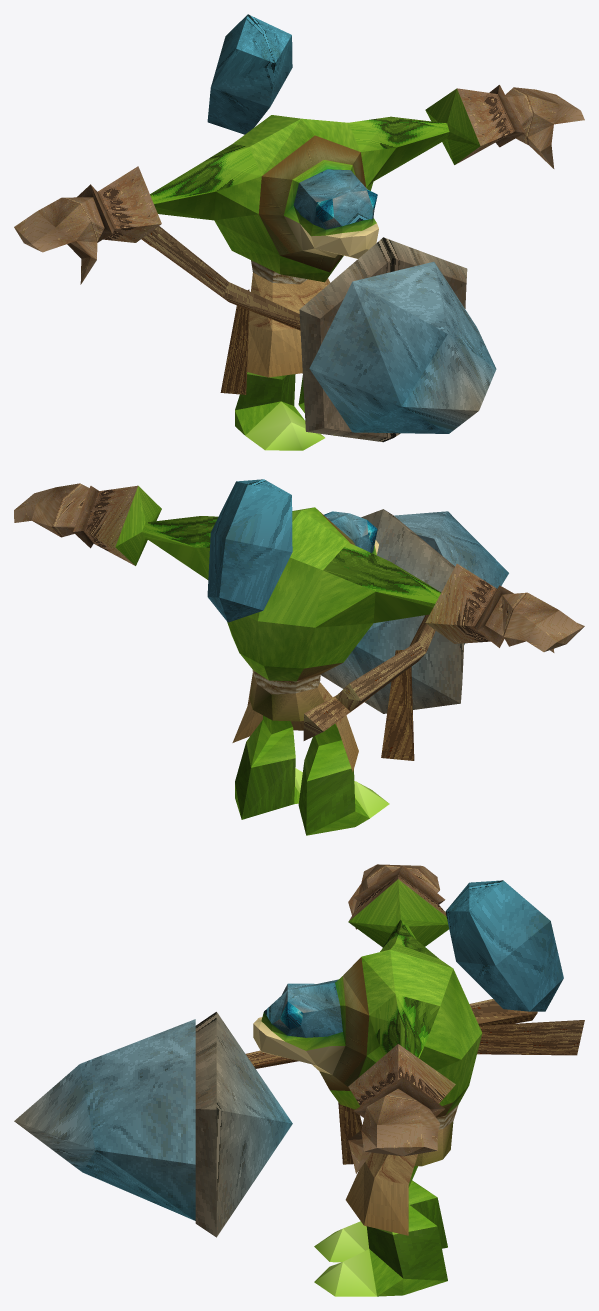
The model's file is driller-lurker-lod2.glb.
The picture shows the model from 3 angles, top to bottom: view 1: azimuth 30°, elevation 25°; view 2: azimuth 150°, elevation 25°; view 3: azimuth 270°, elevation 25°; orthographic projection. The views are drawn at different scales.
Parts seen in each view (by area): view 1: driller-lurker-lod2; view 2: driller-lurker-lod2; view 3: driller-lurker-lod2.
Boxes of the visible parts, <box> form: driller-lurker-lod2: <box>14,14,584,450</box>; driller-lurker-lod2: <box>14,479,584,835</box>; driller-lurker-lod2: <box>14,864,584,1296</box>.
Size of the model in its own units: 7.52 by 4.75 by 6.4.
Materials: 17 (17 with a texture image).
